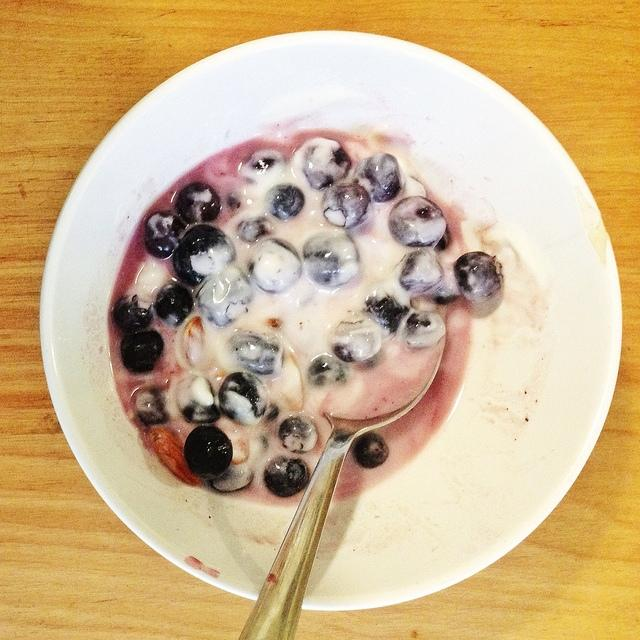blueberry: (302, 230, 361, 292), (196, 266, 254, 328), (245, 237, 302, 295), (172, 224, 225, 286), (388, 196, 447, 247), (184, 426, 234, 480), (226, 330, 284, 376), (332, 311, 382, 364), (352, 153, 404, 203), (454, 252, 504, 304), (218, 372, 266, 424), (322, 182, 372, 228), (396, 308, 446, 352), (303, 146, 350, 190), (144, 212, 187, 260), (121, 328, 164, 375), (264, 454, 310, 497), (398, 250, 444, 292), (177, 182, 220, 224), (366, 294, 410, 334), (154, 283, 193, 327), (112, 295, 154, 333), (279, 417, 319, 454), (264, 183, 304, 220), (209, 462, 254, 493), (134, 389, 170, 427), (352, 432, 388, 468), (307, 354, 346, 386), (235, 215, 274, 244), (183, 399, 219, 424), (432, 286, 460, 306), (226, 193, 242, 211), (252, 158, 276, 170)
